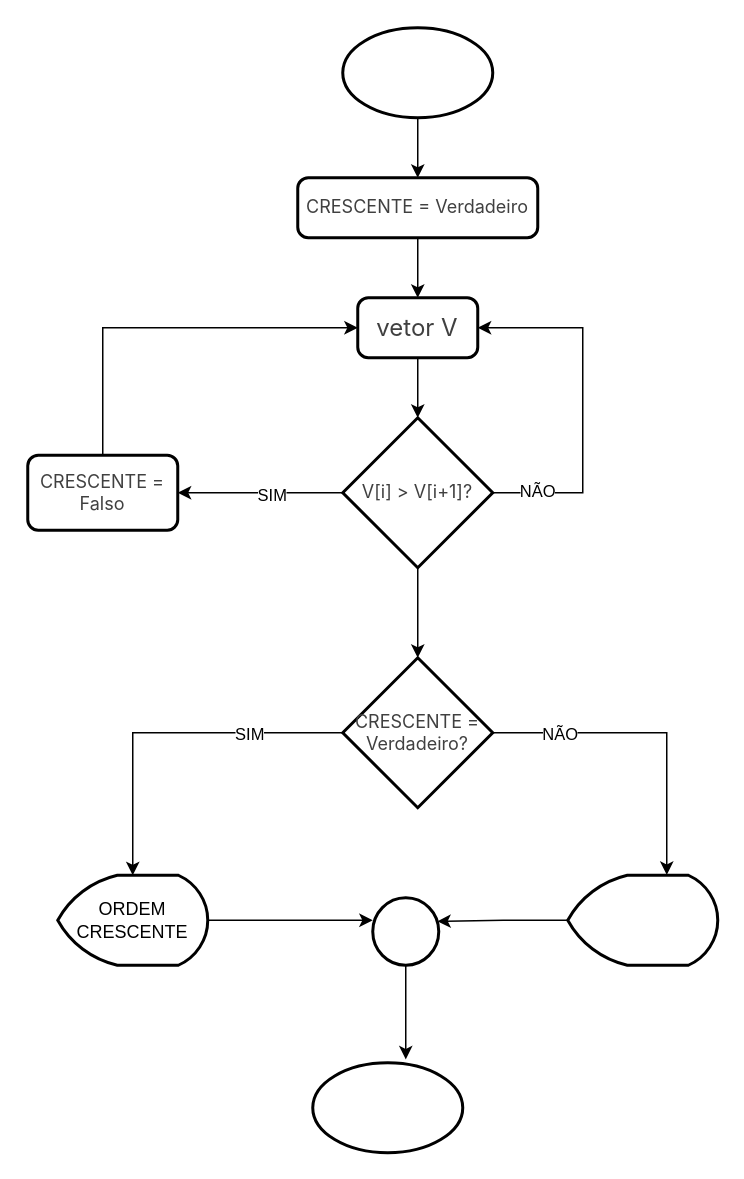
Image size: 744x1179. Some labels were removed from this diagram. The centre of each missing label's shape, as x and y in pixels:
"FIM" goes at pixel 387 1107.
"INICIO" goes at pixel 417 72.
"NÃO ESTA ORDEM CRESCENTE" goes at pixel 642 919.
